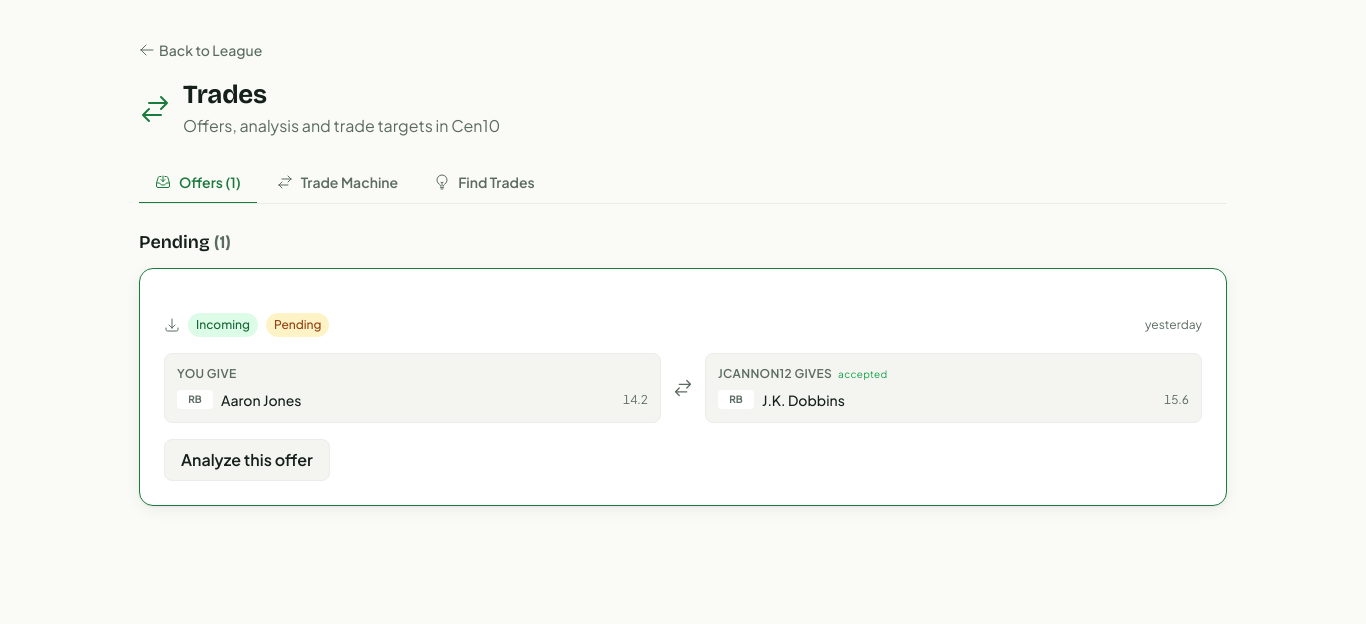
Scenario: Trade machine › says so when a reject is a reject
The width and height of the screenshot is (1366, 624).
Click the button "Analyze this offer": (247, 460) [164,439,330,481]
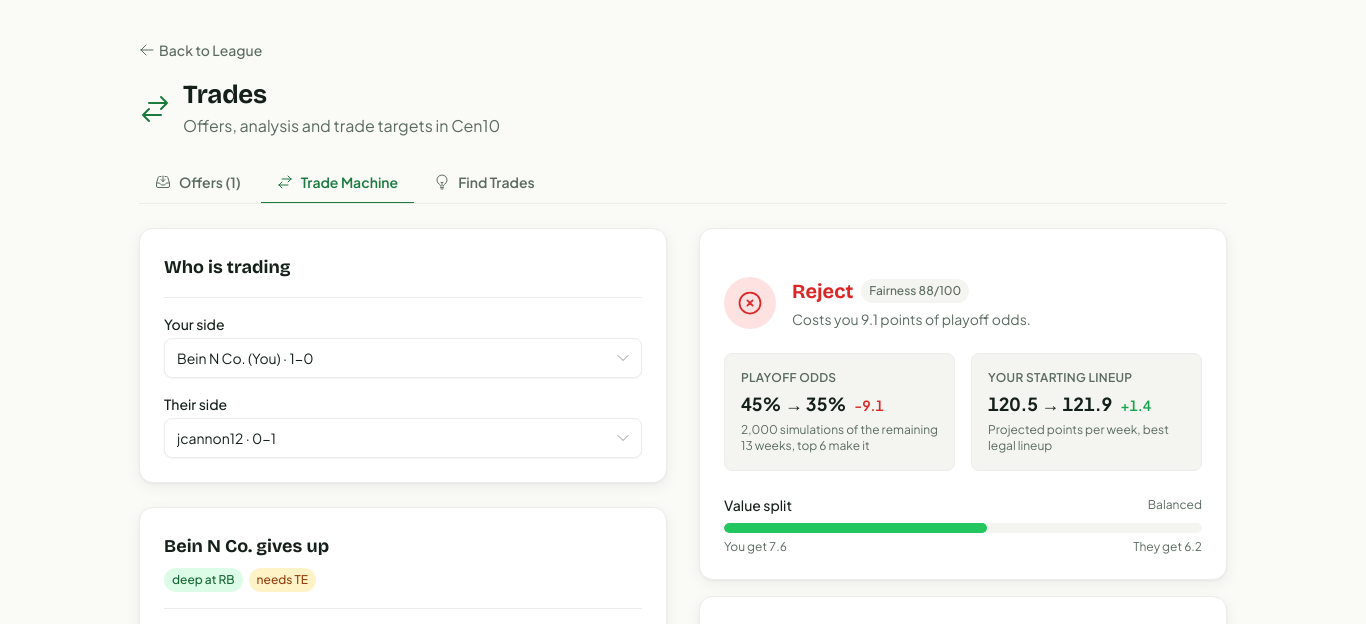
expect the heading "Reject" is shown: met, box [792,277,853,305]
expect the text "-9.1" is shown: met, box [854,395,884,415]
